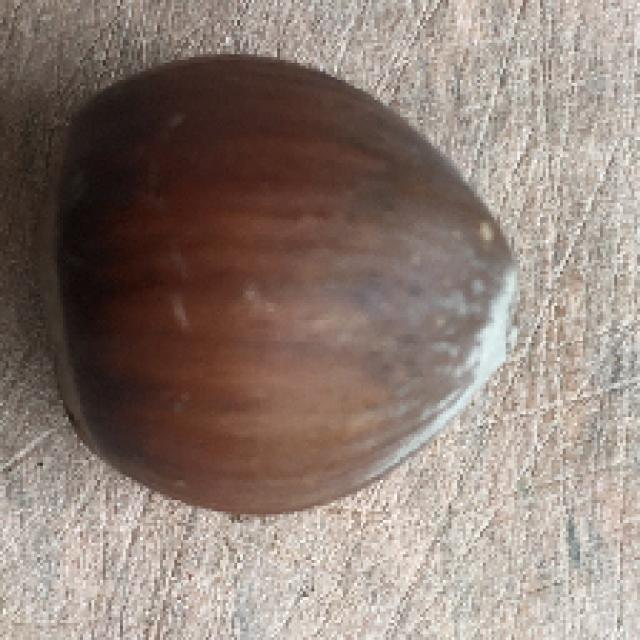damagedHazelnut: (40, 55, 528, 515)
